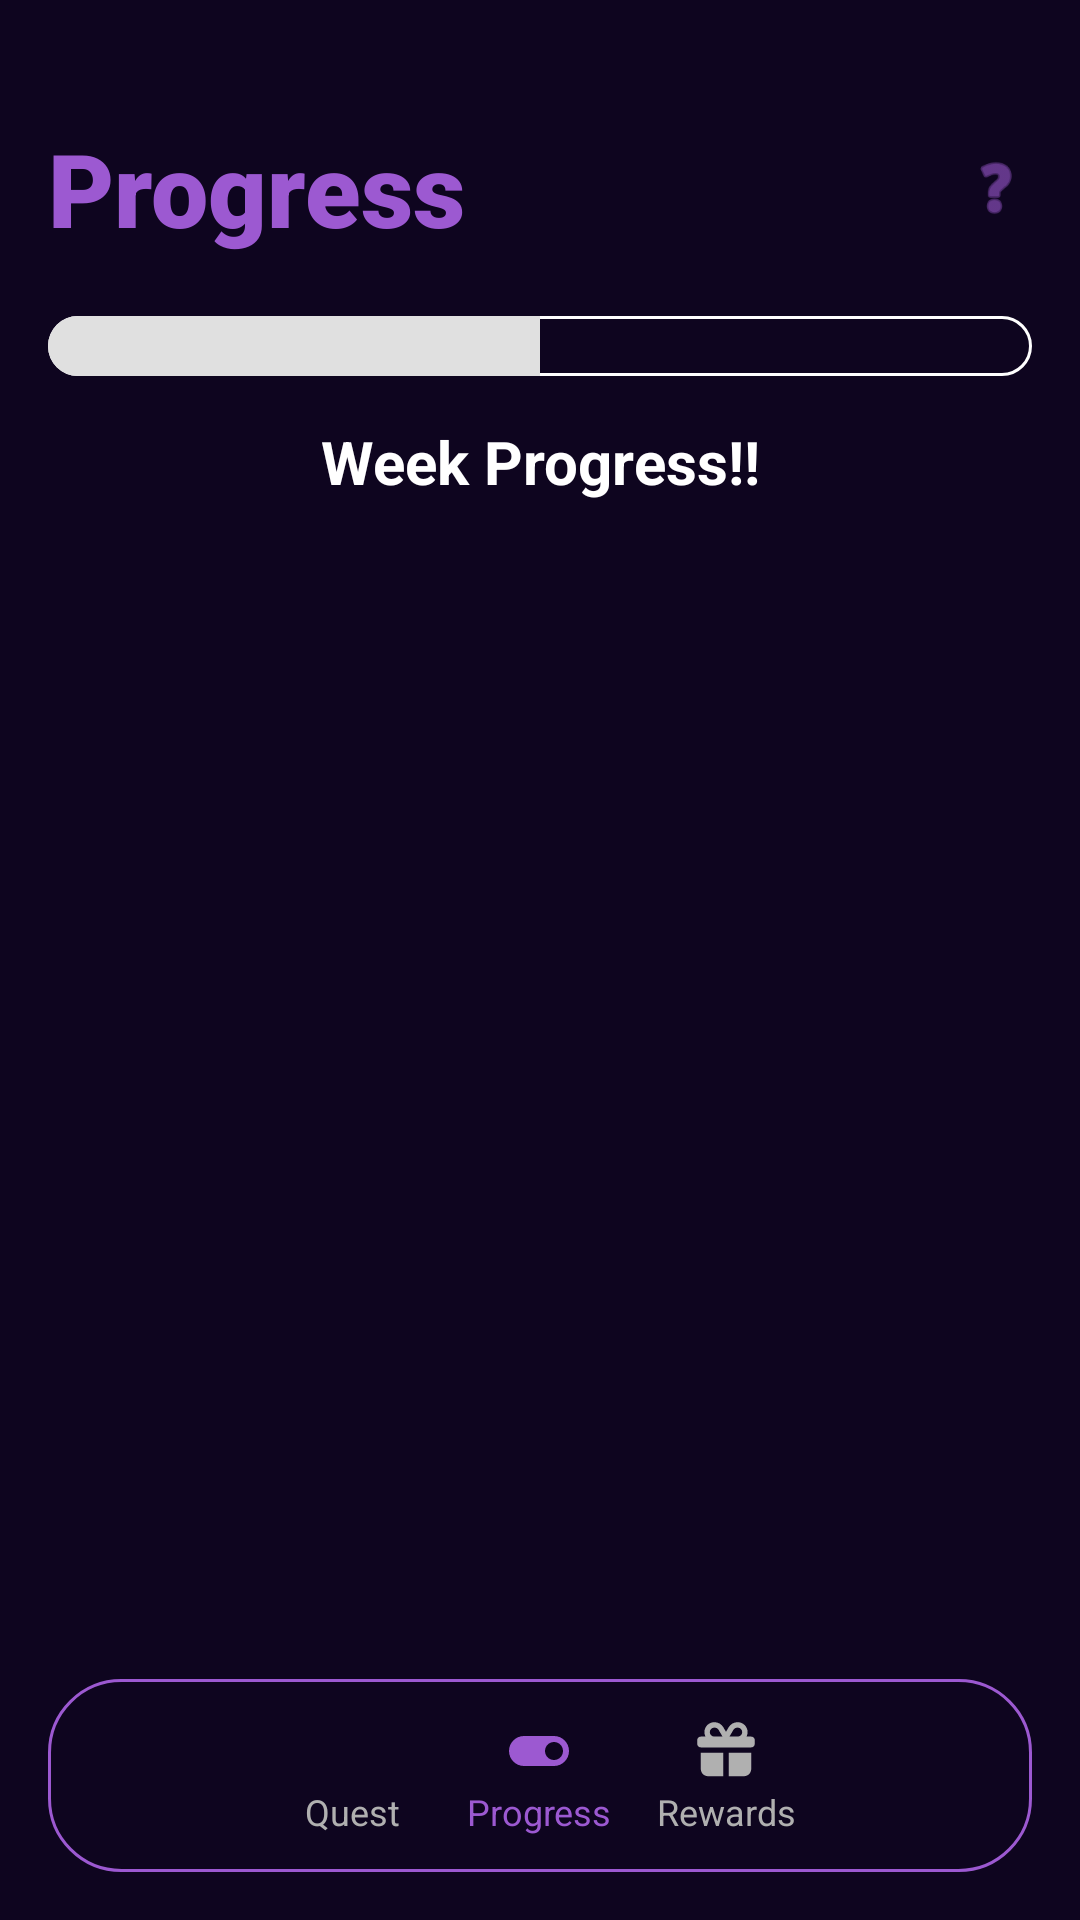

Where icons sit on this 1080 x 1920 app screen, as (x1, y1, x2, y2):
gift: (697, 1722, 755, 1777)
help: (980, 162, 1012, 214)
